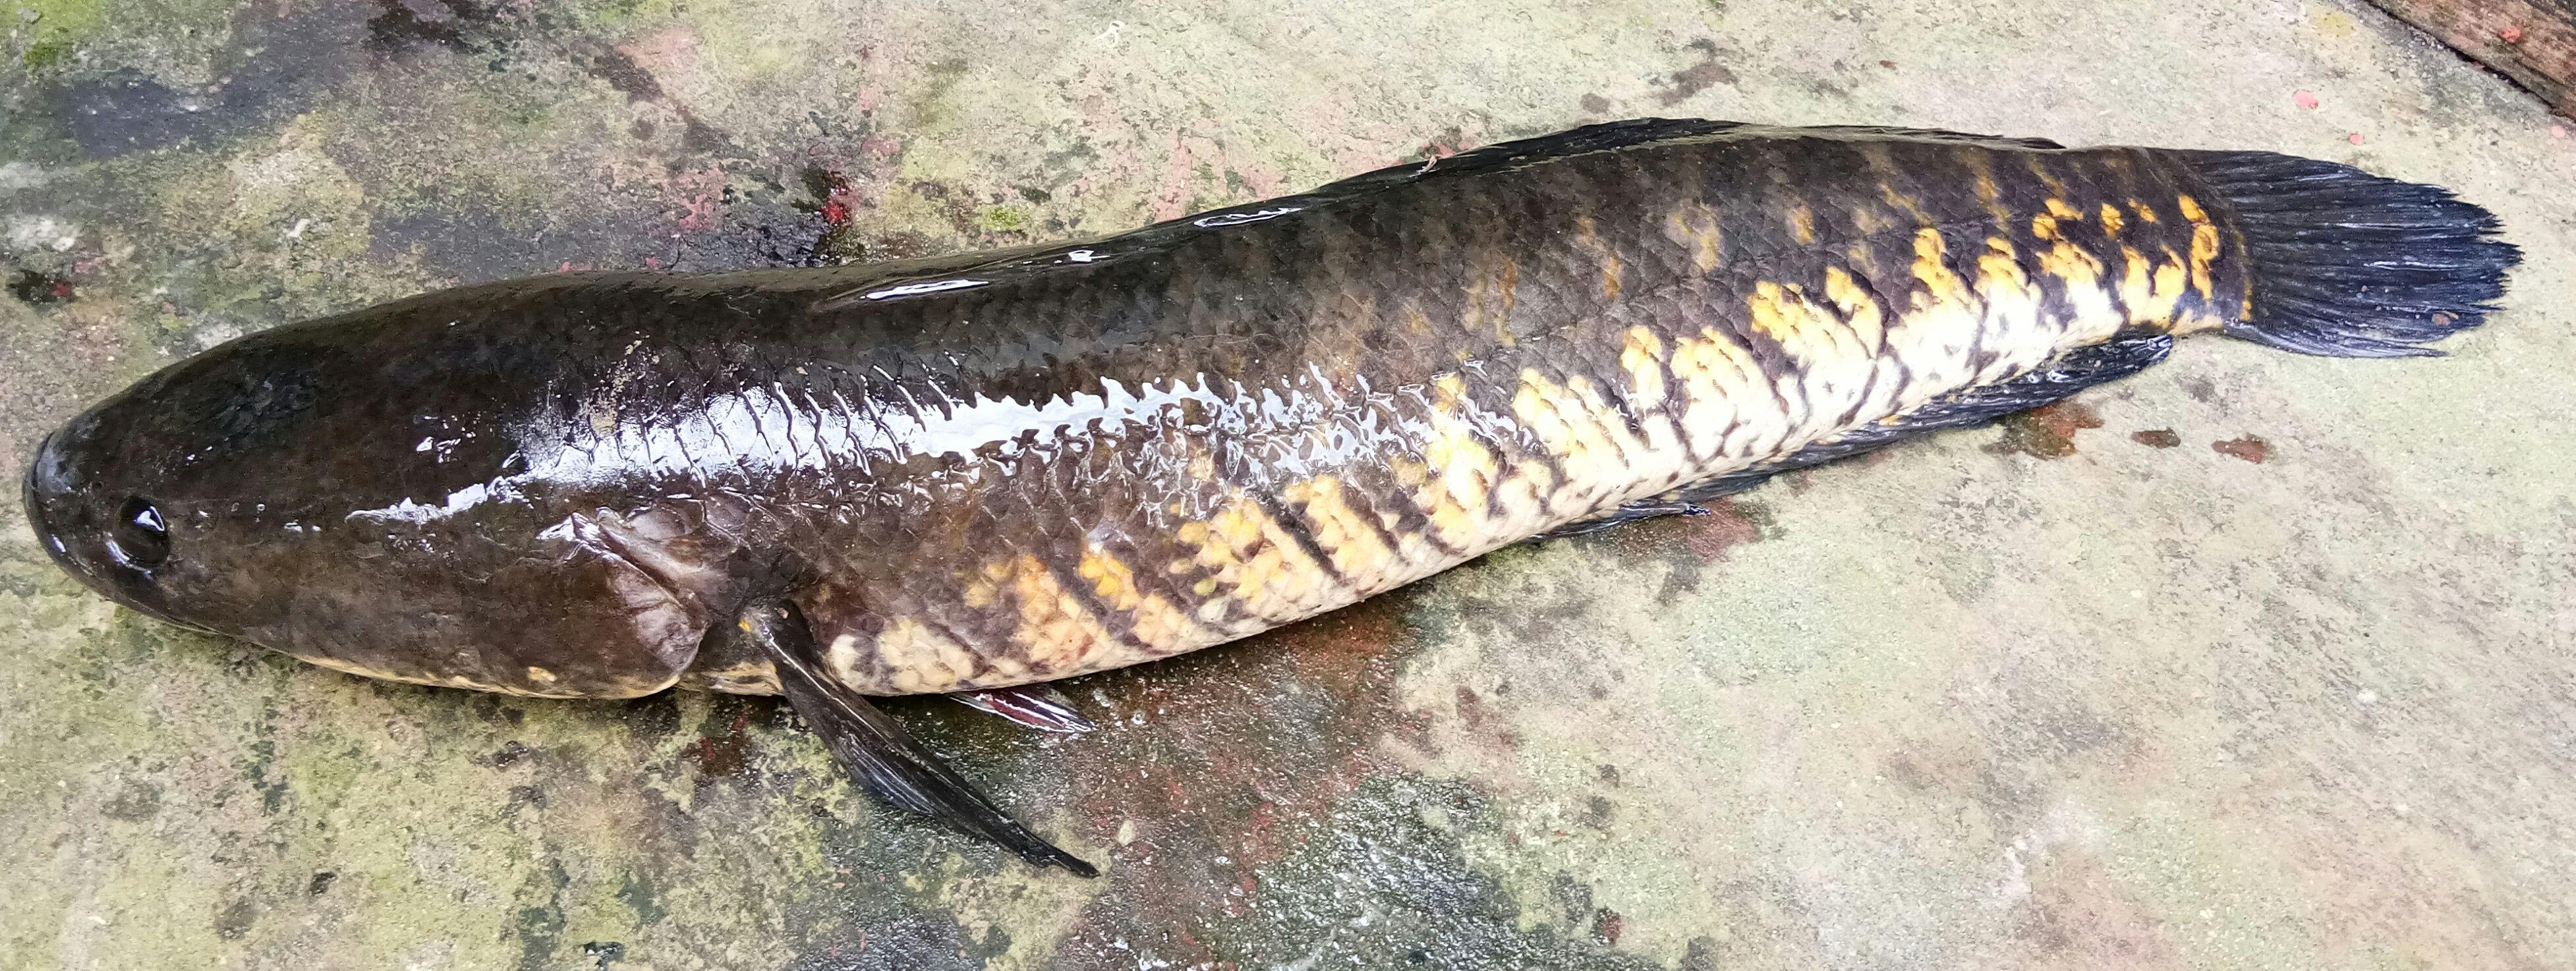Mudfish: (34, 115, 2520, 872)
